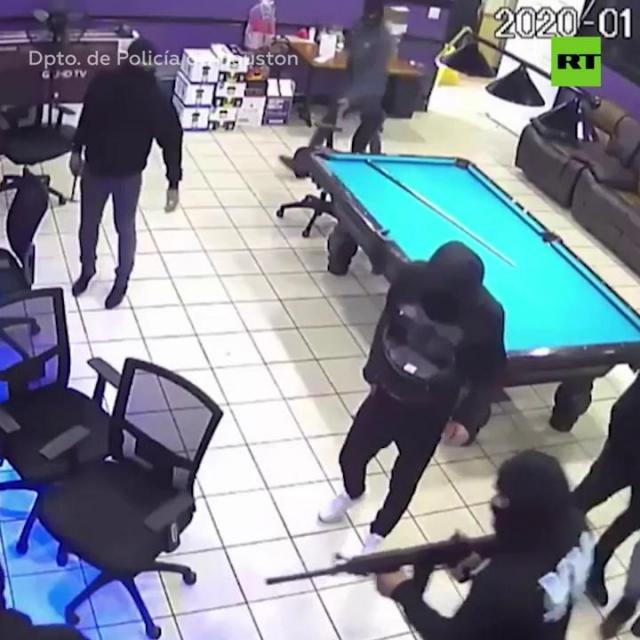weapon: (253, 526, 498, 622)
